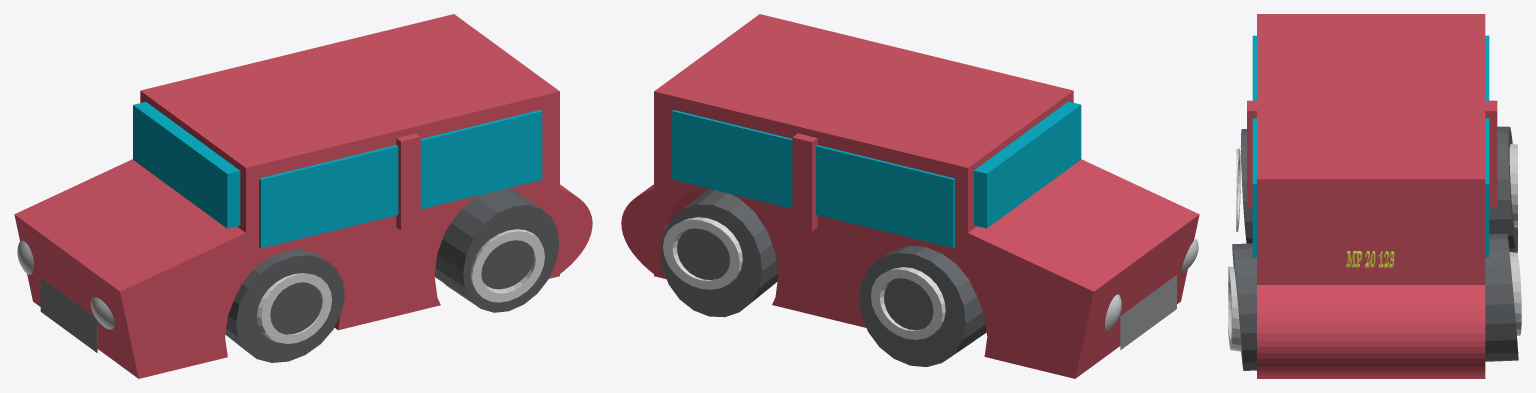
The model's file is car.glb.
3 renders of one model, left to right at view 1: azimuth 30°, elevation 25°; view 2: azimuth 150°, elevation 25°; view 3: azimuth 270°, elevation 25°, orthographic. The views are drawn at different scales.
Parts seen in each view (by area): view 1: Mesh_Mesh_head_geo.001_lambert2SG.001; view 2: Mesh_Mesh_head_geo.001_lambert2SG.001; view 3: Mesh_Mesh_head_geo.001_lambert2SG.001.
Boxes of the visible parts, left/top/right/bottom form: Mesh_Mesh_head_geo.001_lambert2SG.001: left=14, top=14, right=592, bottom=378; Mesh_Mesh_head_geo.001_lambert2SG.001: left=621, top=14, right=1199, bottom=378; Mesh_Mesh_head_geo.001_lambert2SG.001: left=1228, top=14, right=1521, bottom=378.
Size of the model in its own units: 73.88 by 29.34 by 36.
